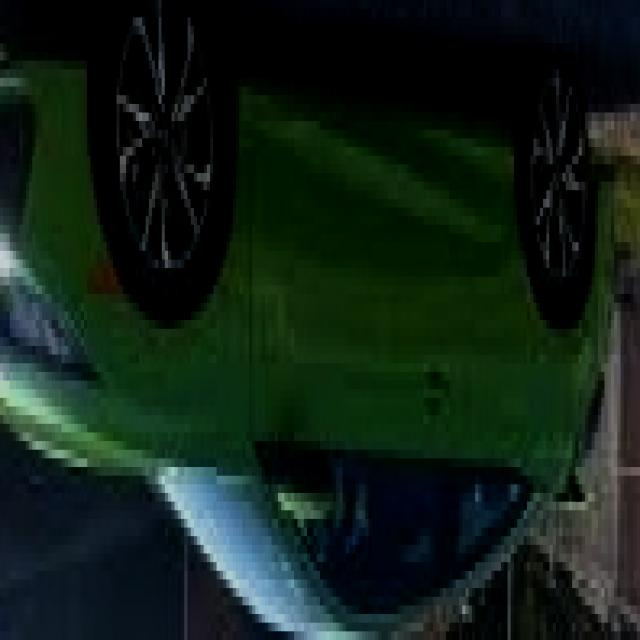green: (0, 0, 615, 640)
